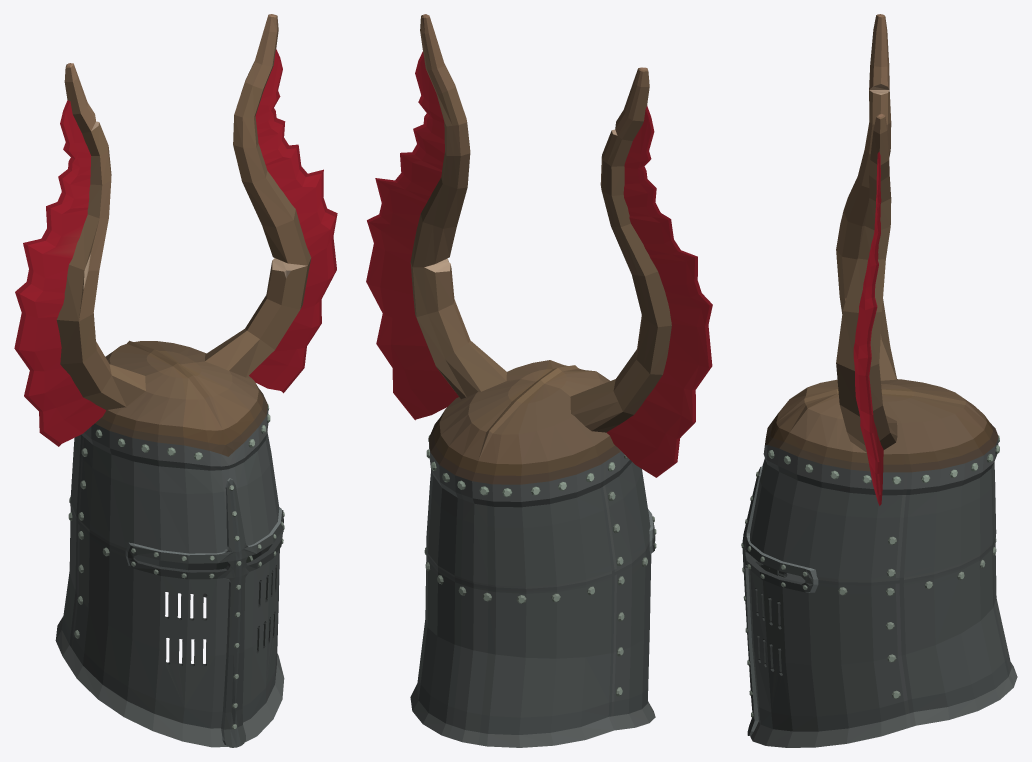
Rendered from bucketHelmetWings.glb.
3 renders of one model, left to right at view 1: azimuth 30°, elevation 25°; view 2: azimuth 150°, elevation 25°; view 3: azimuth 270°, elevation 25°, orthographic. The views are drawn at different scales.
Visible parts, largest first — view 1: bucketHelmetWings; view 2: bucketHelmetWings; view 3: bucketHelmetWings.
Part boxes in pixels (x1,y1,x2,y2): bucketHelmetWings: (14, 14, 337, 747); bucketHelmetWings: (366, 14, 712, 747); bucketHelmetWings: (741, 14, 1017, 747).
Bounding box in the file's own units: 0.5063 × 0.9891 × 0.3699.
